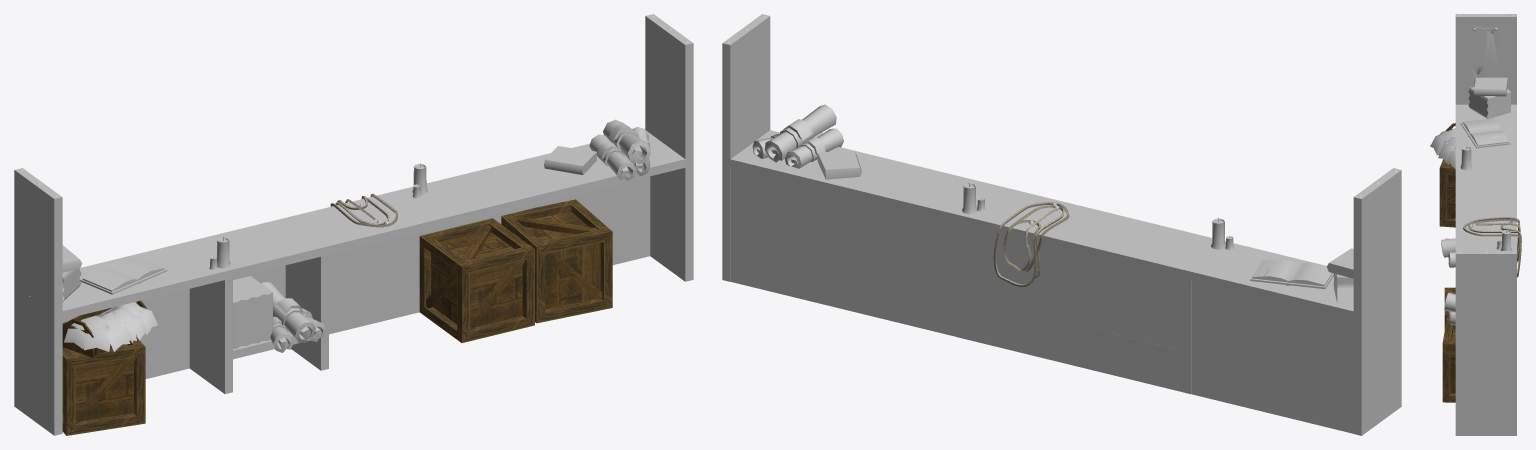
Rendered from Balcão.fbx.
The picture shows the model from 3 angles, left to right: view 1: azimuth 30°, elevation 25°; view 2: azimuth 150°, elevation 25°; view 3: azimuth 270°, elevation 25°; orthographic projection. The views are drawn at different scales.
Parts seen in each view (by area): view 1: Balcão; view 2: Balcão; view 3: Balcão.
Boxes of the visible parts, bbox=[...] form: Balcão: bbox=[14, 14, 693, 435]; Balcão: bbox=[722, 14, 1401, 435]; Balcão: bbox=[1430, 14, 1521, 435].
Bounding box in the file's own units: 701 × 249 × 113.
